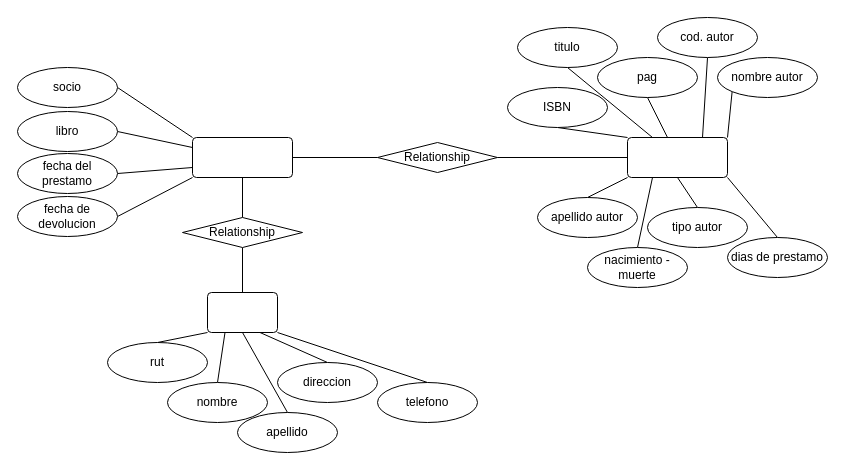
The diagram is 845 pixels wide and 470 high, and some of its shapes have lost their labels. Each missing label, with the centre of its shape:
HISTORIAL DE PRESTAMOS: (x=242, y=157)
LIBROS: (x=677, y=157)
SOCIOS: (x=242, y=312)
